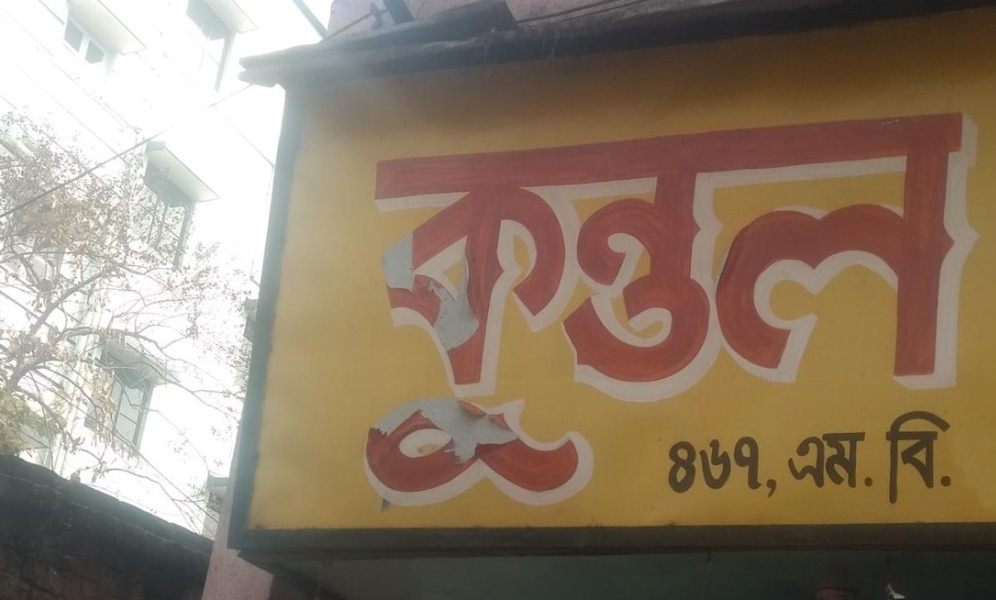text: (369, 101, 384, 552), (385, 101, 400, 552), (401, 101, 416, 552), (417, 101, 432, 552), (433, 101, 448, 552), (449, 101, 464, 552), (465, 101, 480, 552), (481, 101, 496, 552), (497, 101, 512, 552), (513, 101, 528, 552), (529, 101, 544, 552), (545, 101, 560, 552), (561, 101, 576, 552), (577, 101, 592, 552), (593, 101, 608, 552), (609, 101, 624, 552), (625, 101, 640, 552), (641, 101, 656, 552), (657, 101, 672, 552), (673, 101, 688, 552), (689, 101, 704, 552), (705, 101, 720, 552), (721, 101, 736, 552), (737, 101, 752, 552), (753, 101, 768, 552), (769, 101, 784, 552), (785, 101, 800, 552), (801, 101, 816, 552), (817, 101, 832, 552), (833, 101, 848, 552), (849, 101, 864, 552), (865, 101, 880, 552), (881, 101, 896, 552), (897, 101, 912, 552), (913, 101, 928, 552), (929, 101, 944, 552), (945, 101, 960, 552), (961, 101, 976, 552), (977, 101, 992, 552), (354, 101, 368, 552), (897, 405, 912, 512), (913, 405, 928, 512), (929, 405, 944, 512), (945, 405, 960, 512), (882, 405, 896, 512), (673, 429, 688, 510), (689, 429, 704, 510), (705, 429, 720, 510), (721, 429, 736, 510), (737, 429, 752, 510), (753, 429, 768, 510), (769, 429, 784, 510), (658, 429, 672, 510), (801, 423, 816, 495), (817, 423, 832, 495), (833, 423, 848, 495), (849, 423, 864, 495), (786, 423, 800, 495), (993, 101, 995, 552), (865, 423, 875, 495), (961, 405, 962, 512)
